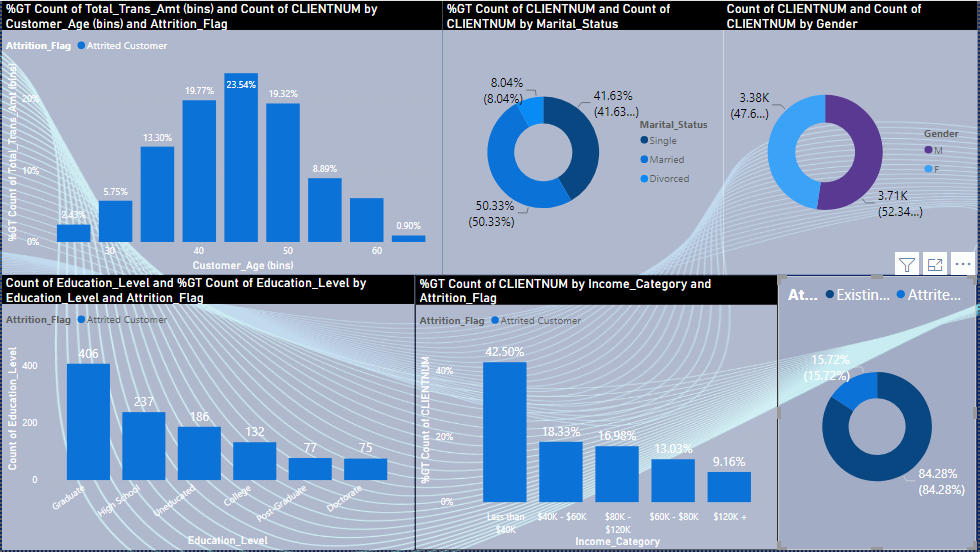

This screenshot's page, from the dashboard's own definition file:
{"tool":"powerbi","page":{"name":"Personal Details","canvas":[1280,720],"ordinal":0},"visuals":[{"type":"donutChart","fields":{"Category":["BankChurners.Marital_Status"],"Y":["Divide(CountNonNull(BankChurners.CLIENTNUM), ScopedEval(CountNonNull(BankChurners.CLIENTNUM), []))"]},"box":[577.9,0,367.6,359.3],"z":0},{"type":"donutChart","fields":{"Y":["CountNonNull(BankChurners.CLIENTNUM)"],"Category":["BankChurners.Gender"]},"box":[945.5,0,334.5,359.3],"z":1000},{"type":"columnChart","fields":{"Category":["BankChurners.Education_Level"],"Series":["BankChurners.Attrition_Flag"],"Y":["CountNonNull(BankChurners.Education_Level)1"]},"box":[0,359.5,540.9,361.2],"z":2000},{"type":"columnChart","fields":{"Category":["BankChurners.Income_Category"],"Series":["BankChurners.Attrition_Flag"],"Y":["CountNonNull(BankChurners.CLIENTNUM)"]},"box":[541.1,359.3,476.2,360.7],"z":3000},{"type":"donutChart","fields":{"Y":["Divide(CountNonNull(BankChurners.CLIENTNUM), ScopedEval(CountNonNull(BankChurners.CLIENTNUM), []))"],"Series":["BankChurners.Attrition_Flag"]},"box":[1017.7,360.7,259.7,359.3],"z":4000},{"type":"columnChart","fields":{"Series":["BankChurners.Attrition_Flag"],"Category":["BankChurners.Customer_Age (bins)"],"Y":["CountNonNull(BankChurners.Total_Trans_Amt (bins))"]},"box":[0,0,578.4,359.3],"z":5000}]}

Visuals, with their boxes in screenshot pixels (x1, y1, x2, y2), scaled from the page's 1280x720 canvas onto the 980x552 screenshot:
donutChart - BankChurners.Marital_Status x Divide(CountNonNull(BankChurners.CLIENTNUM), ScopedEval(CountNonNull(BankChurners.CLIENTNUM), [])): 442 0 724 275
donutChart - CountNonNull(BankChurners.CLIENTNUM) x BankChurners.Gender: 724 0 979 275
columnChart - BankChurners.Education_Level x BankChurners.Attrition_Flag: 0 276 414 551
columnChart - BankChurners.Income_Category x BankChurners.Attrition_Flag: 414 275 779 551
donutChart - Divide(CountNonNull(BankChurners.CLIENTNUM), ScopedEval(CountNonNull(BankChurners.CLIENTNUM), [])) x BankChurners.Attrition_Flag: 779 277 978 551
columnChart - BankChurners.Attrition_Flag x BankChurners.Customer_Age (bins): 0 0 443 275
